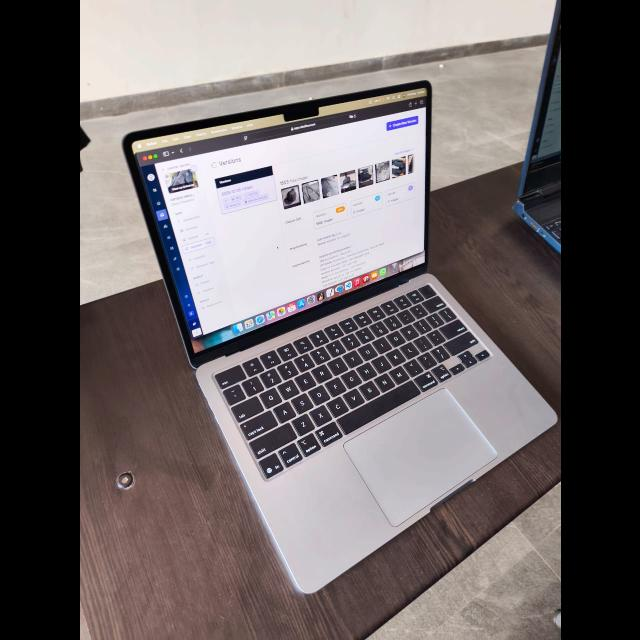laptop: (114, 75, 558, 600)
